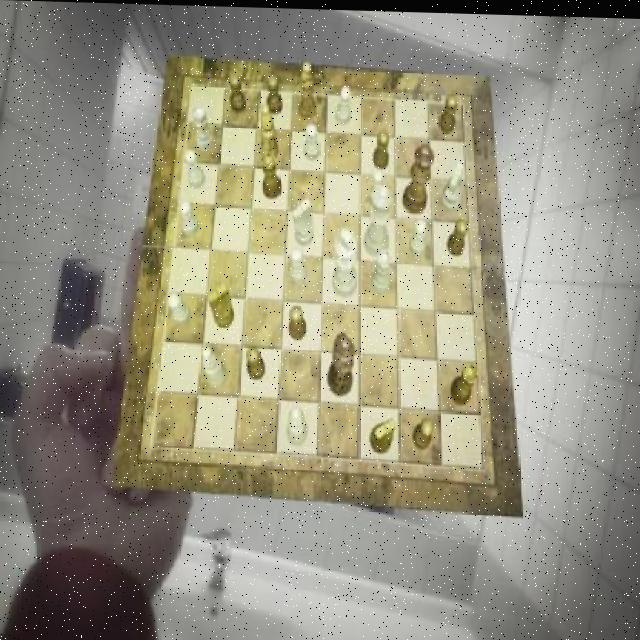bishop: (260, 101, 279, 159), (299, 59, 316, 117)
black-bishop: (328, 330, 355, 394)
black-king: (208, 280, 235, 326), (371, 415, 397, 451)
black-knight: (438, 92, 458, 131), (448, 215, 468, 253), (247, 344, 266, 379), (374, 128, 391, 167), (229, 73, 246, 112), (414, 416, 434, 449), (289, 303, 307, 338), (268, 74, 284, 113)
black-pawn: (403, 142, 435, 212)
black-queen: (451, 360, 478, 403), (262, 152, 282, 199)
black-rook: (203, 344, 229, 388), (288, 405, 308, 446)
white-bishop: (334, 225, 358, 296)
white-king: (440, 161, 463, 211), (294, 198, 314, 246)
white-knight: (184, 149, 206, 188), (168, 292, 190, 325), (180, 200, 200, 236), (290, 245, 308, 282), (410, 218, 428, 254), (370, 165, 386, 204), (304, 123, 320, 159), (337, 85, 352, 123)
white-pawn: (365, 182, 392, 255)
white-queen: (192, 103, 215, 151), (371, 247, 392, 293)
